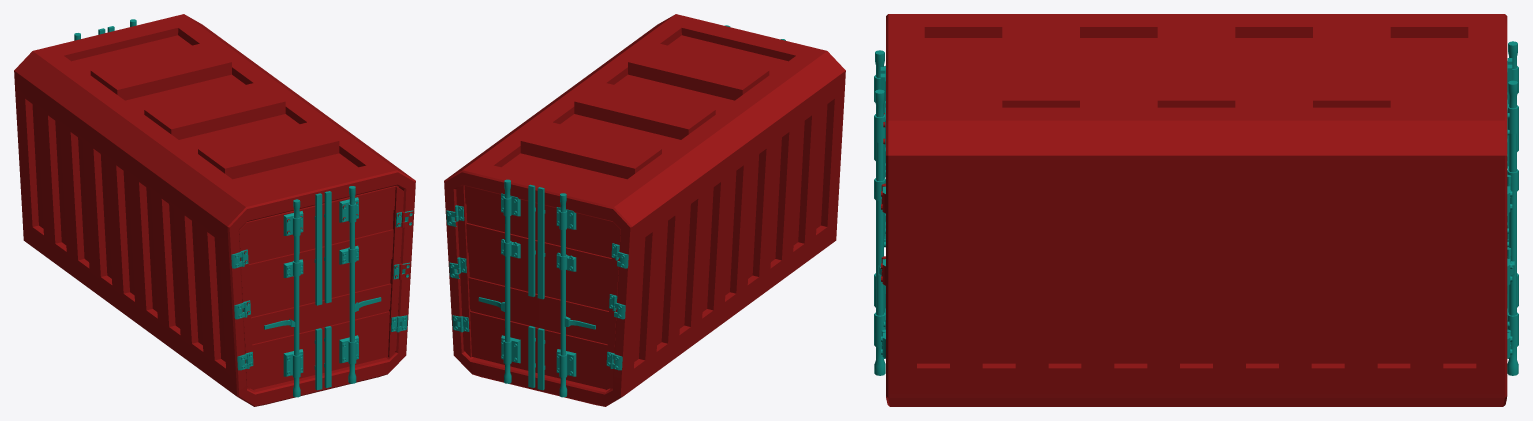
File: Container_Metal_01.FBX
3 views of the same model, side by side, from view 1: azimuth 30°, elevation 25°; view 2: azimuth 150°, elevation 25°; view 3: azimuth 270°, elevation 25° (orthographic). The views are drawn at different scales.
Visible parts, largest first — view 1: Container_Metal_01_LOD0; view 2: Container_Metal_01_LOD0; view 3: Container_Metal_01_LOD0.
Boxes of the visible parts, x1,y1,x2,y2 form: Container_Metal_01_LOD0: (14, 14, 415, 406); Container_Metal_01_LOD0: (444, 14, 845, 406); Container_Metal_01_LOD0: (874, 14, 1518, 406).
Bounding box in the file's own units: 377 × 397 × 774.
